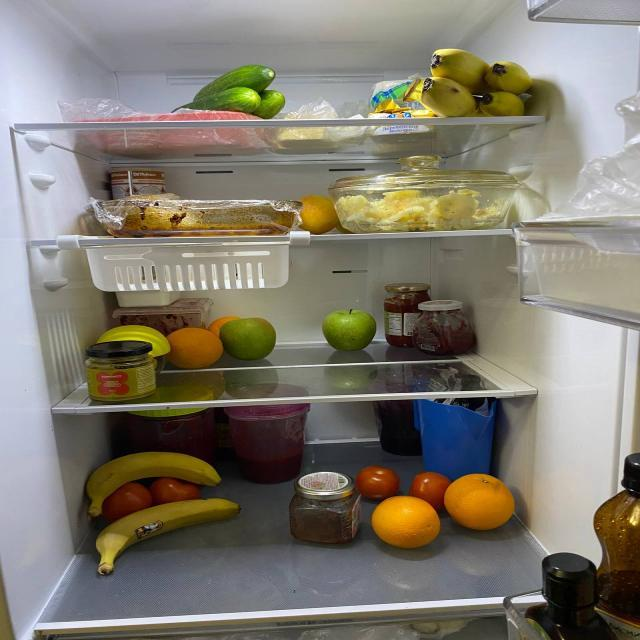Apple: (217, 315, 279, 362), (318, 308, 378, 352), (290, 193, 340, 233)
Banana: (93, 495, 240, 575), (422, 41, 538, 115), (76, 452, 224, 507)
Cucumber: (184, 62, 276, 99), (178, 86, 255, 113), (250, 88, 286, 119)
Orange: (441, 474, 515, 532), (372, 498, 442, 547), (168, 328, 222, 368), (211, 315, 237, 331)
Tomato: (102, 483, 150, 521), (350, 464, 400, 497), (148, 476, 202, 503), (411, 472, 449, 501)
